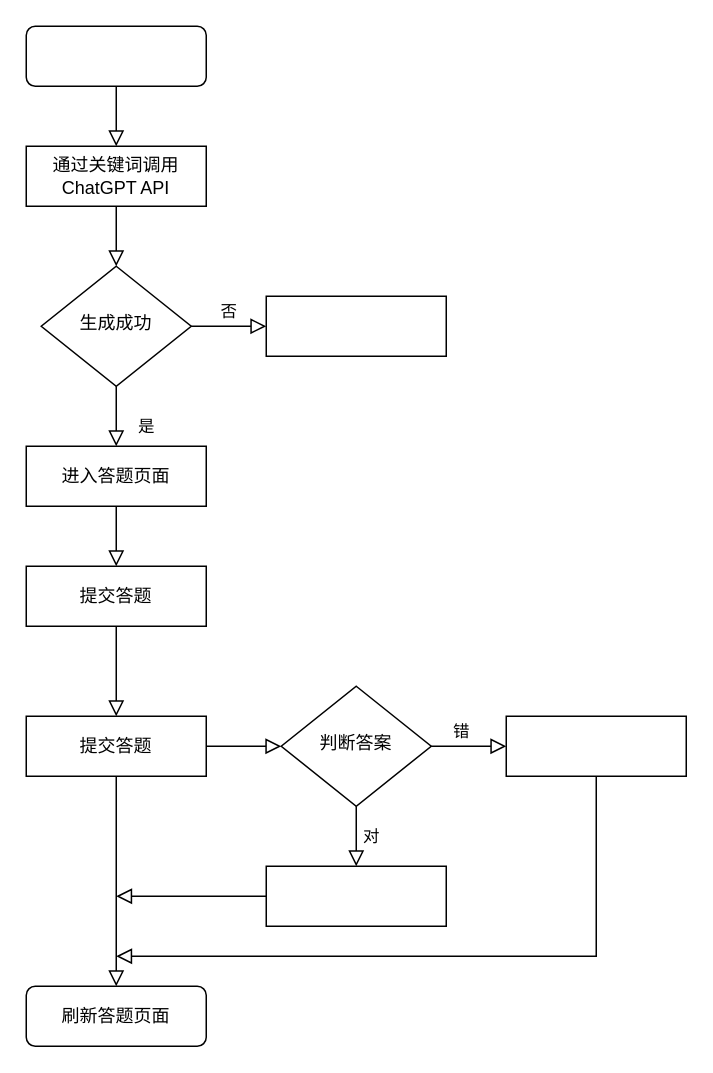
This 713x1073 diagram has some shape labels left out. The centre of each missing label's shape, as x and y in pixels:
提示失败: the point at 355,325
生成习题: the point at 115,55
统计正确数: the point at 355,895
统计错误数: the point at 595,745
